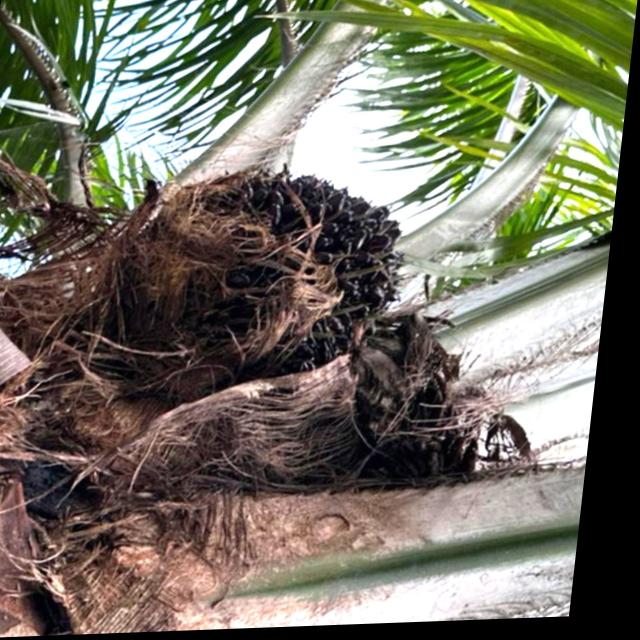almost: (128, 150, 441, 400)
